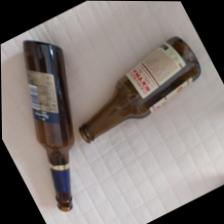glass: (0, 34, 73, 223), (79, 36, 199, 141)
